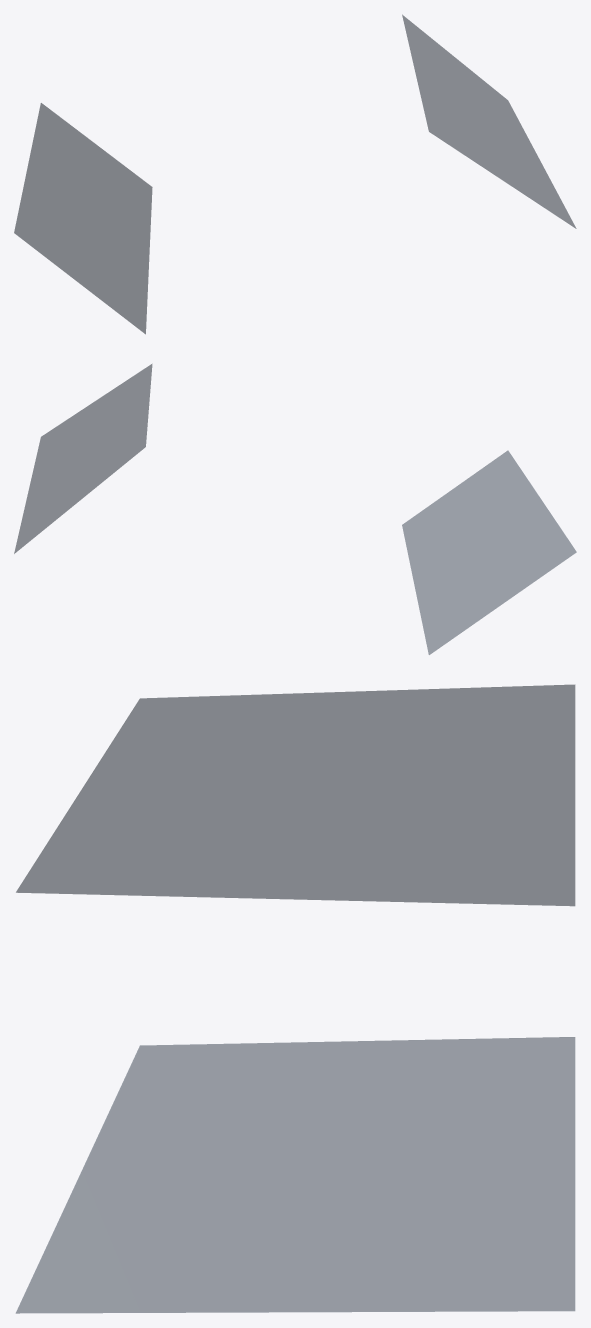
File: GEO_DoorWindow_Rear.glb
3 renders of one model, top to bottom at view 1: azimuth 30°, elevation 25°; view 2: azimuth 150°, elevation 25°; view 3: azimuth 270°, elevation 25°, orthographic. The views are drawn at different scales.
Visible parts, largest first — view 1: GEO_DoorWindow_Rear; view 2: GEO_DoorWindow_Rear; view 3: GEO_DoorWindow_Rear.
Part boxes in pixels (bbox=[...]): GEO_DoorWindow_Rear: bbox=[14, 14, 576, 334]; GEO_DoorWindow_Rear: bbox=[14, 364, 576, 654]; GEO_DoorWindow_Rear: bbox=[16, 684, 575, 1313].
Size of the model in its own units: 1.6 by 0.44 by 0.9.
